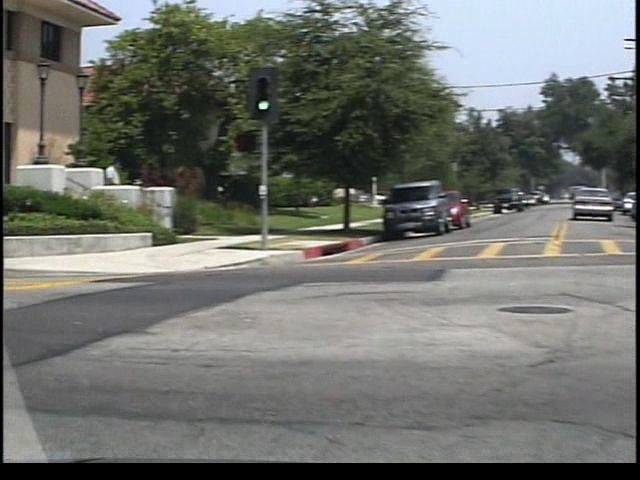person: (94, 152, 115, 218)
